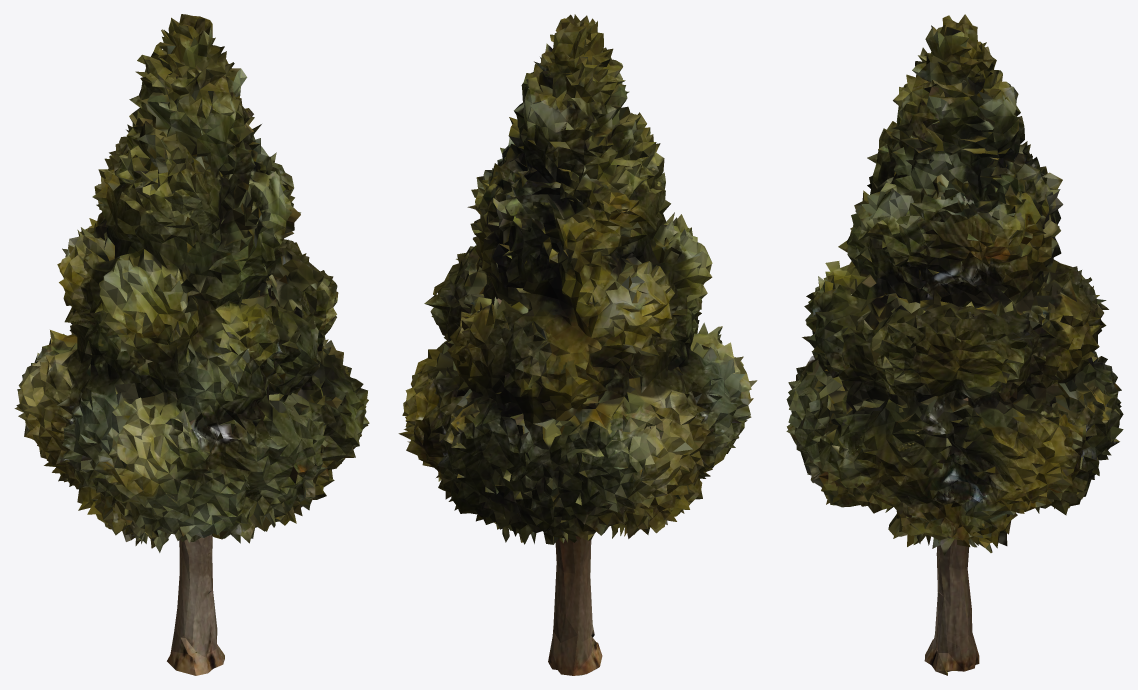
Rendered from traveler_env_coast_cakon_cedar_diorama_00001_.glb.
3 renders of one model, left to right at view 1: azimuth 30°, elevation 25°; view 2: azimuth 150°, elevation 25°; view 3: azimuth 270°, elevation 25°, orthographic.
Parts seen in each view (by area): view 1: temp_mesh.ply; view 2: temp_mesh.ply; view 3: temp_mesh.ply.
Boxes of the visible parts, bbox=[...] form: temp_mesh.ply: bbox=[14, 14, 369, 675]; temp_mesh.ply: bbox=[398, 14, 757, 675]; temp_mesh.ply: bbox=[786, 14, 1123, 675].
Bounding box in the file's own units: 0.8974 × 1.97 × 0.941.
Materials: 1 (1 with a texture image).
